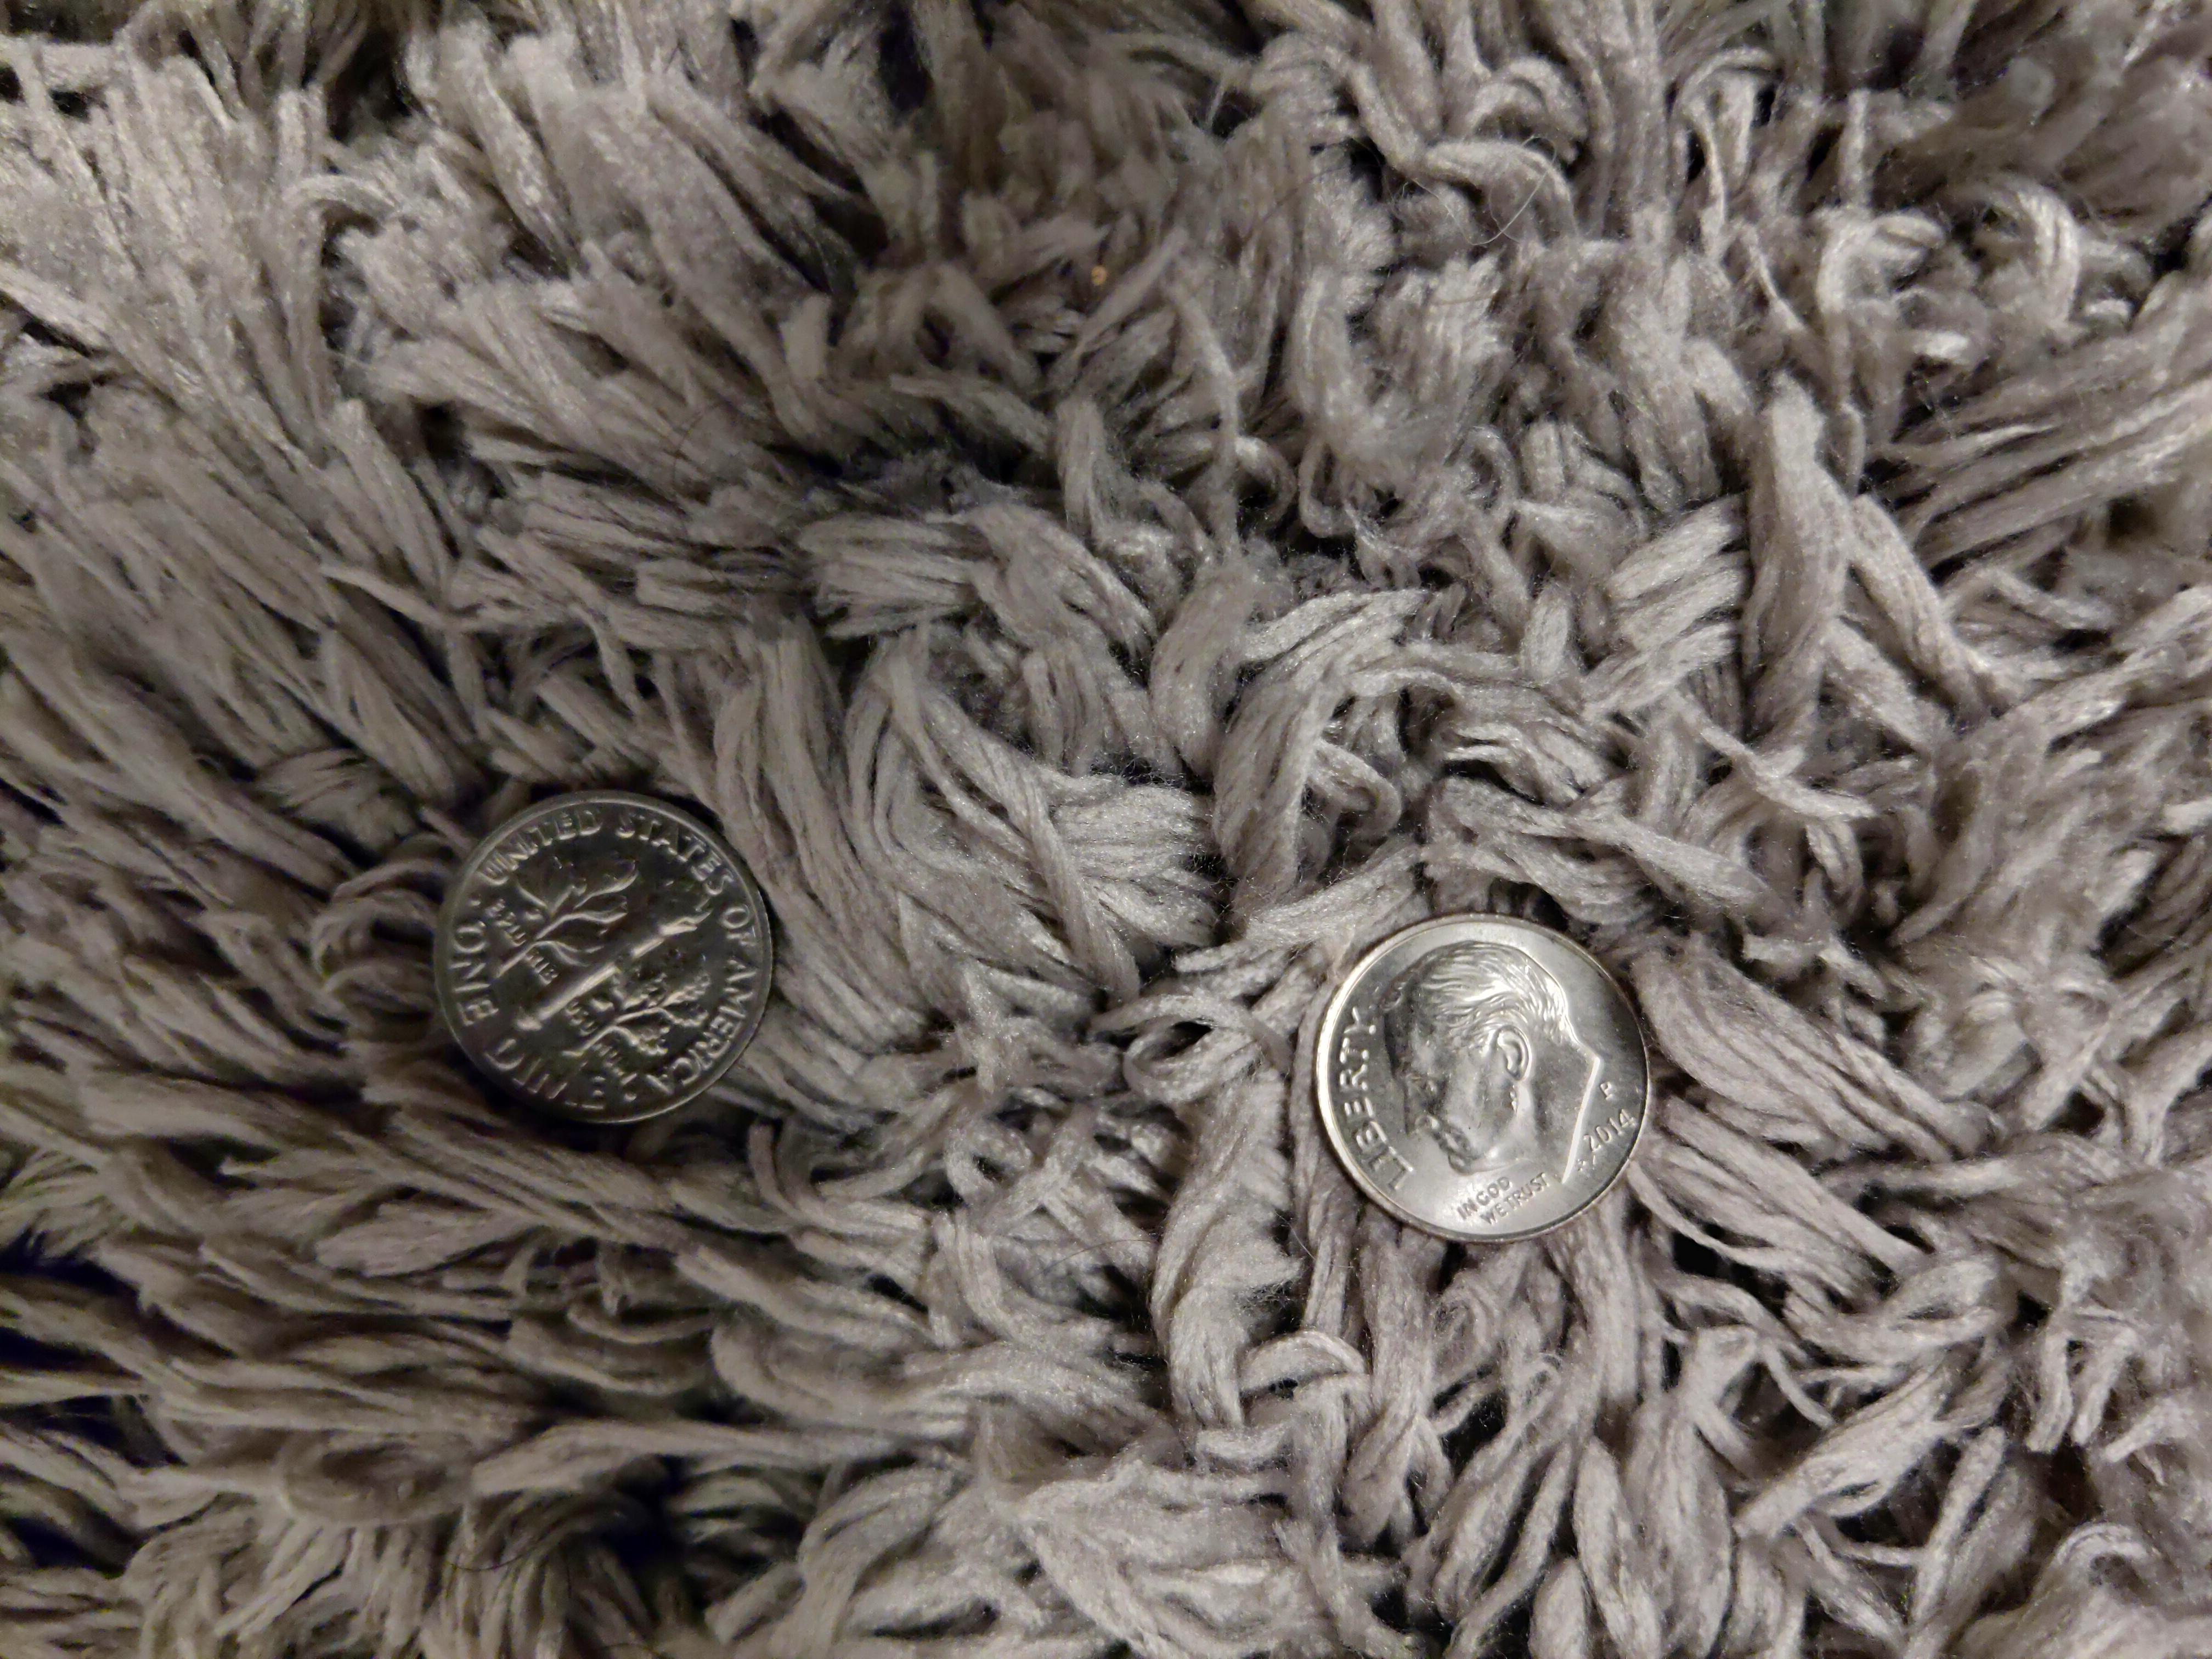Dime: (430, 786, 777, 1129), (1305, 910, 1655, 1248)
